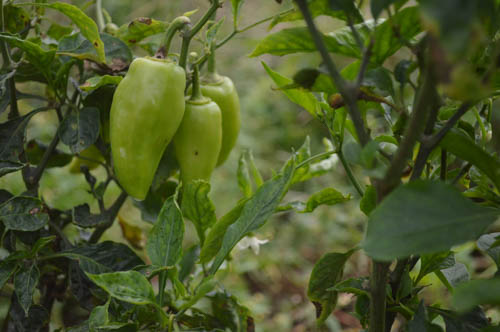ChiliPepper: (107, 61, 184, 206), (188, 77, 240, 174), (175, 98, 220, 208)
